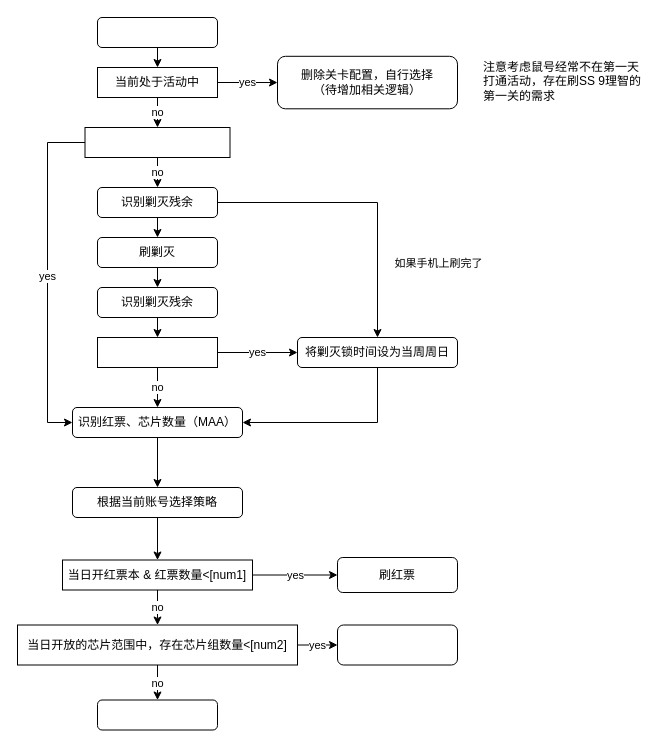
This 665x748 diagram has some shape labels left out. Here are the shapes that lost their labels. From the top down, the centre of each, then its label:
At (157,32): "macro理智规划".
At (157,142): "剿灭锁时间>当前时间".
At (157,352): "剿灭全部完成".
At (397,644): "刷指定芯片本".
At (157,714): "刷1-7".
